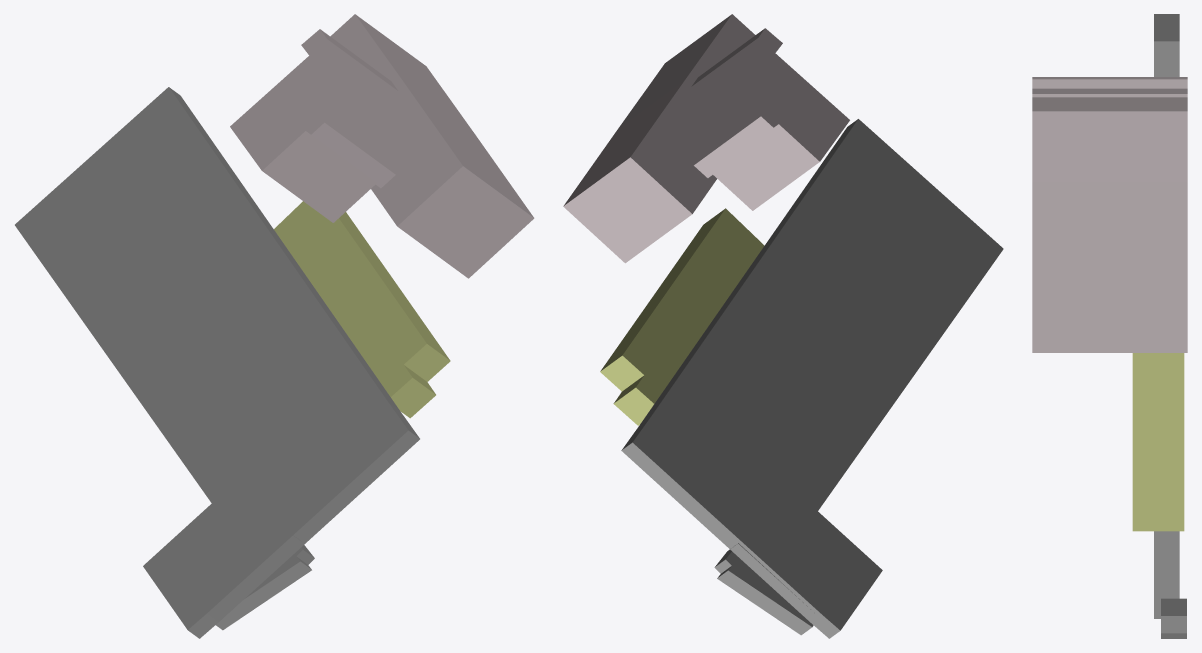
3 renders of one model, left to right at view 1: azimuth 30°, elevation 25°; view 2: azimuth 150°, elevation 25°; view 3: azimuth 270°, elevation 25°, orthographic. The views are drawn at different scales.
Parts seen in each view (by area): view 1: 0_1_2_0_0_2_1_0; view 2: 0_1_2_0_0_2_1_0; view 3: 0_1_2_0_0_2_1_0.
Part boxes in pixels (box(x1,y1,x2,y2)): 0_1_2_0_0_2_1_0: box(15, 14, 534, 638); 0_1_2_0_0_2_1_0: box(563, 14, 1003, 638); 0_1_2_0_0_2_1_0: box(1032, 14, 1187, 638).
Size of the model in its own units: 65.81 by 79.58 by 18.
